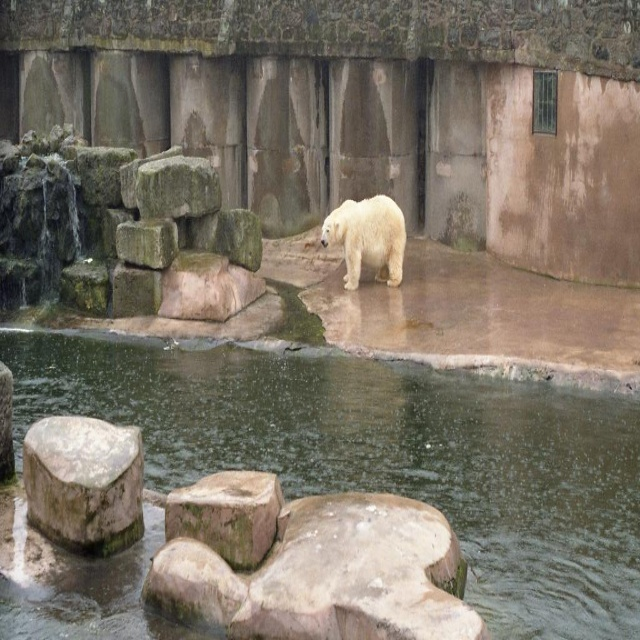Polar bear: (320, 197, 403, 288)
